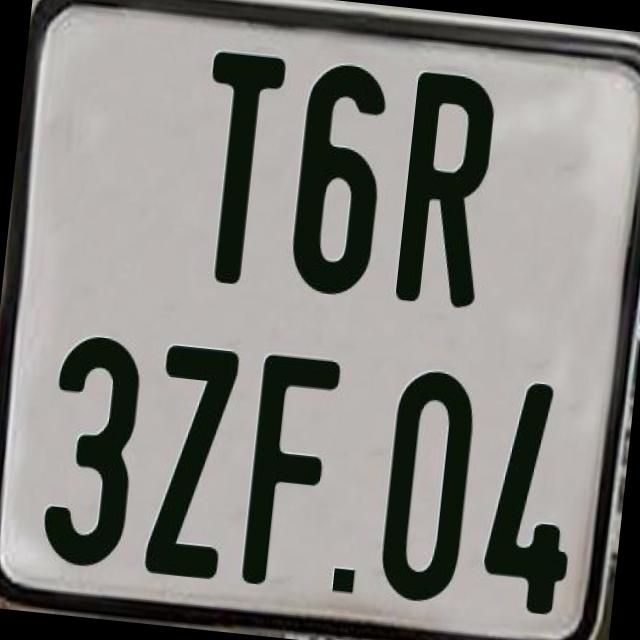0: (376, 367, 479, 611)
3: (38, 330, 148, 568)
4: (478, 376, 588, 620)
6: (282, 58, 388, 306)
F: (236, 352, 344, 590)
R: (393, 66, 497, 312)
T: (186, 46, 285, 292)
Z: (138, 344, 238, 586)
